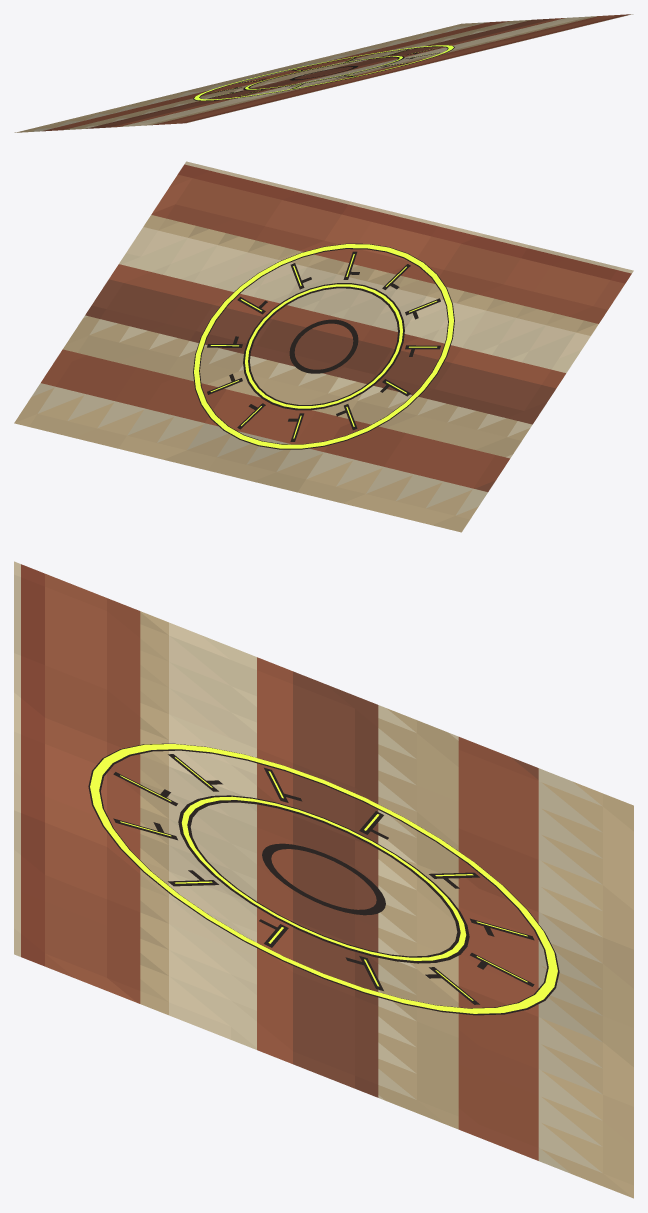
The model's file is dam_eye_mouth.glb.
The picture shows the model from 3 angles, top to bottom: view 1: azimuth 30°, elevation 25°; view 2: azimuth 150°, elevation 25°; view 3: azimuth 270°, elevation 25°; orthographic projection. The views are drawn at different scales.
Visible parts, largest first — view 1: dam_eye_mouth; view 2: dam_eye_mouth; view 3: dam_eye_mouth.
Part boxes in pixels (x1,y1,x2,y2): dam_eye_mouth: (14, 14, 633, 132); dam_eye_mouth: (14, 161, 633, 532); dam_eye_mouth: (14, 561, 633, 1198).
Bounding box in the file's own units: 30 × 8.69 × 20.
